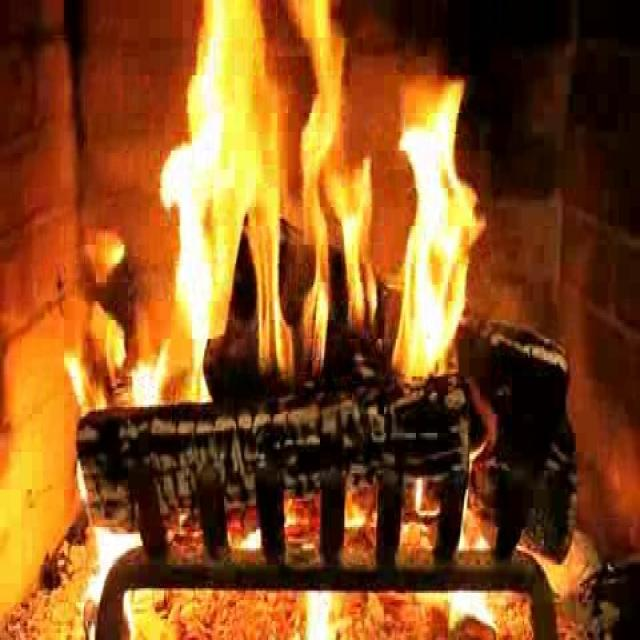fire: (157, 14, 483, 383)
